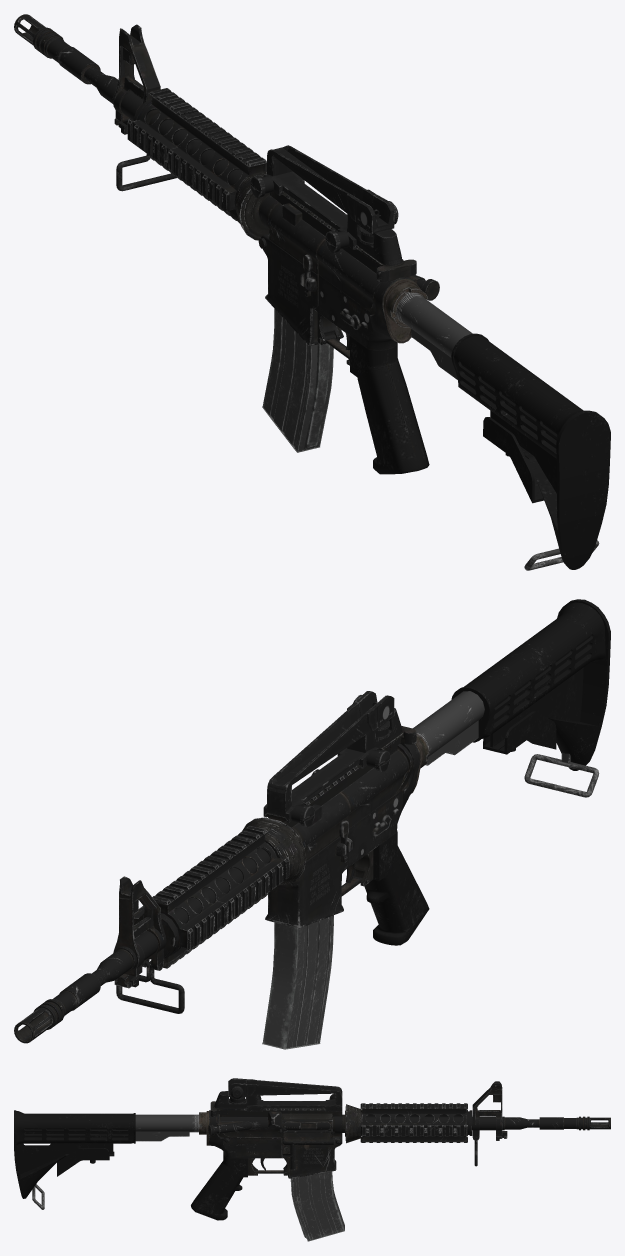
The picture shows the model from 3 angles, top to bottom: view 1: azimuth 30°, elevation 25°; view 2: azimuth 150°, elevation 25°; view 3: azimuth 270°, elevation 25°; orthographic projection. The views are drawn at different scales.
Visible parts, largest first — view 1: body, mag; view 2: body, mag; view 3: body, mag.
Boxes of the visible parts, bbox=[...] form: body: bbox=[14, 14, 610, 570]; mag: bbox=[262, 308, 333, 452]; body: bbox=[14, 599, 610, 1043]; mag: bbox=[262, 884, 333, 1049]; body: bbox=[14, 1078, 610, 1220]; mag: bbox=[290, 1171, 344, 1241].
Size of what is drawn, in the model's own units: 0.0641 by 0.2445 by 0.838.
Materials: 4 (4 with a texture image).
